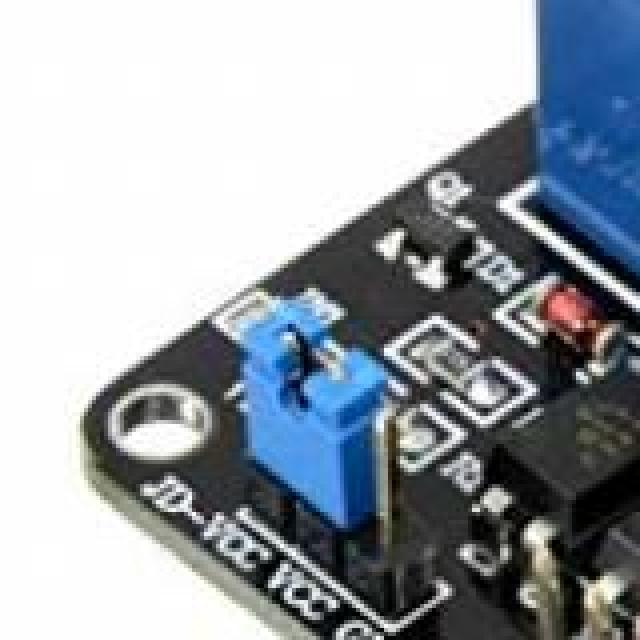IC: (480, 364, 640, 548), (608, 444, 640, 636)
connector: (212, 308, 432, 584), (500, 544, 640, 640)
diode: (532, 284, 632, 364)
relay: (536, 0, 640, 132)
resistor: (412, 328, 508, 410)
transistor: (376, 192, 476, 270)
